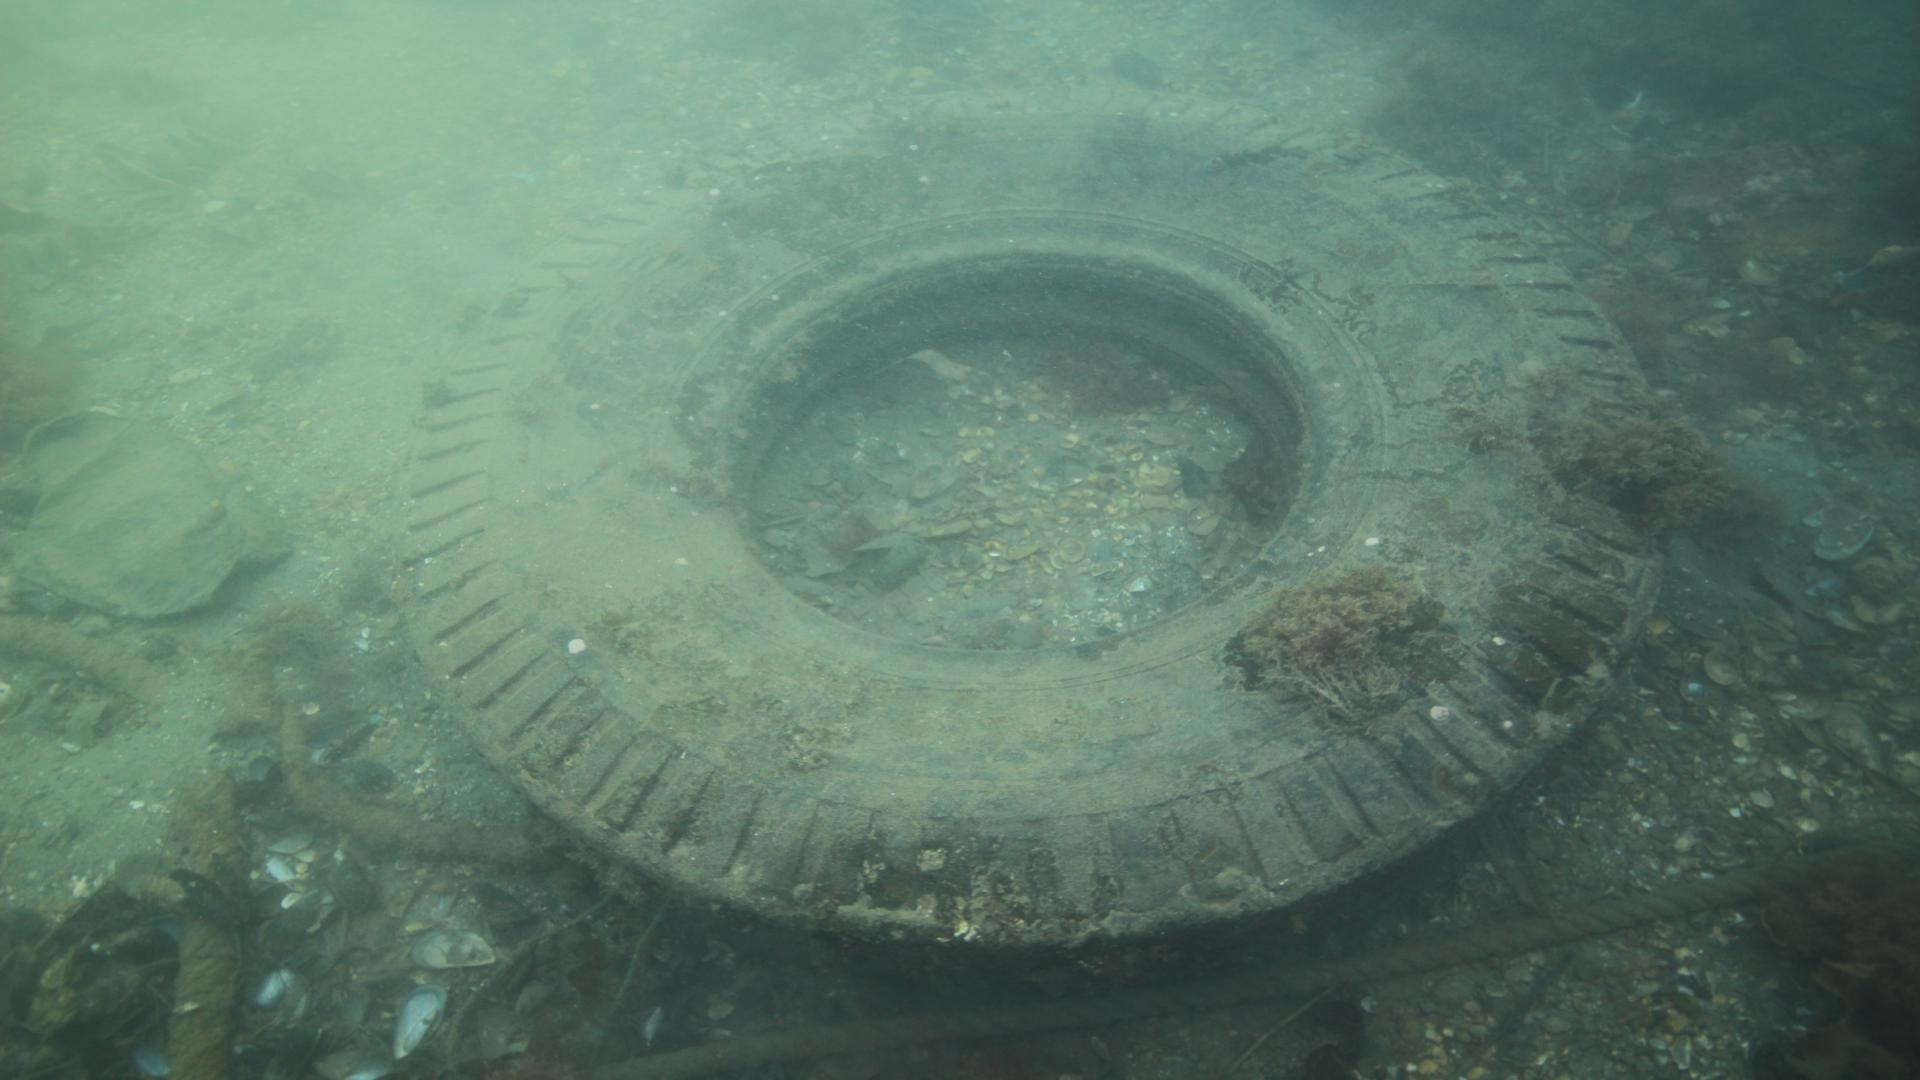rope: (567, 837, 1898, 1080)
tire: (404, 82, 1665, 1009)
